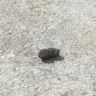Dog: (39, 49, 61, 58)
